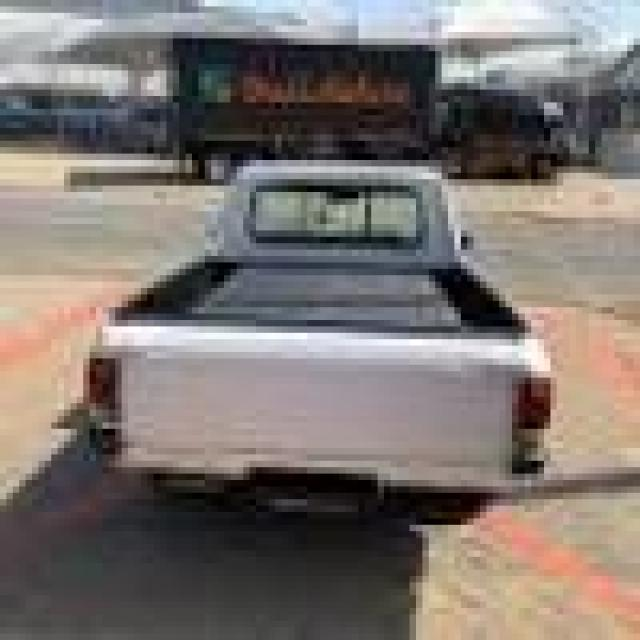Pickup Trucks: (83, 160, 557, 525)
